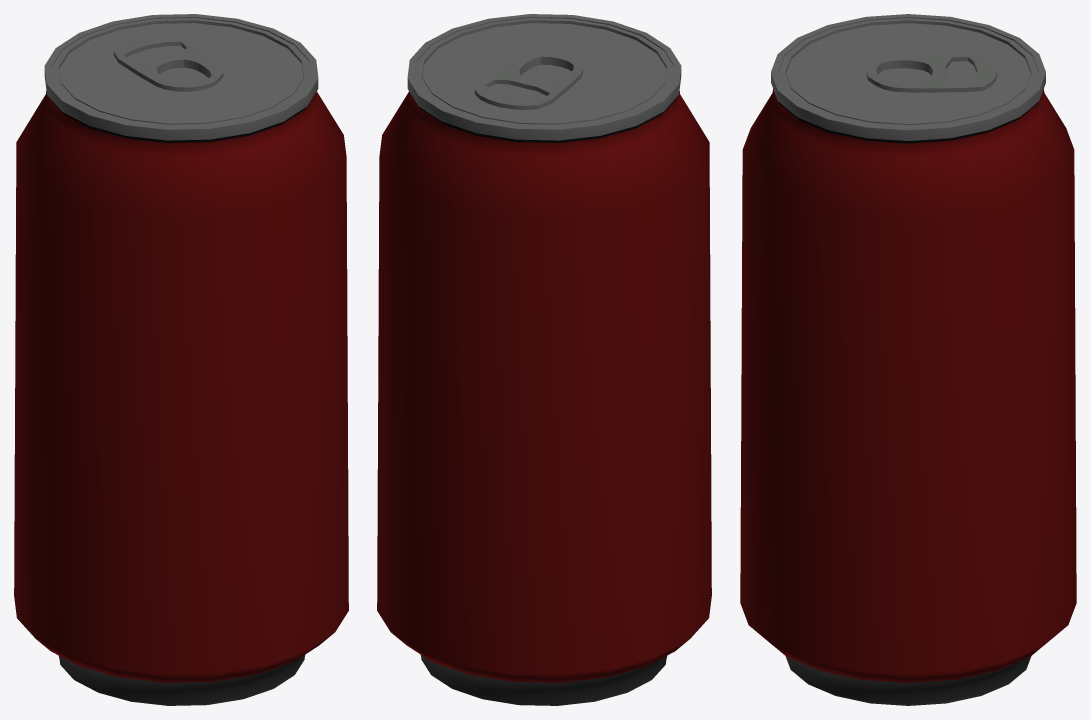
File: blimp_body_cola_v2.dae
3 renders of one model, left to right at view 1: azimuth 30°, elevation 25°; view 2: azimuth 150°, elevation 25°; view 3: azimuth 270°, elevation 25°, orthographic.
Visible parts, largest first — view 1: pCylinder1; view 2: pCylinder1; view 3: pCylinder1.
Boxes of the visible parts, x1,y1,x2,y2 form: pCylinder1: (14,14,348,705); pCylinder1: (377,14,711,705); pCylinder1: (740,14,1076,705).
Size of the model in its own units: 6.66 by 12.74 by 6.66.
